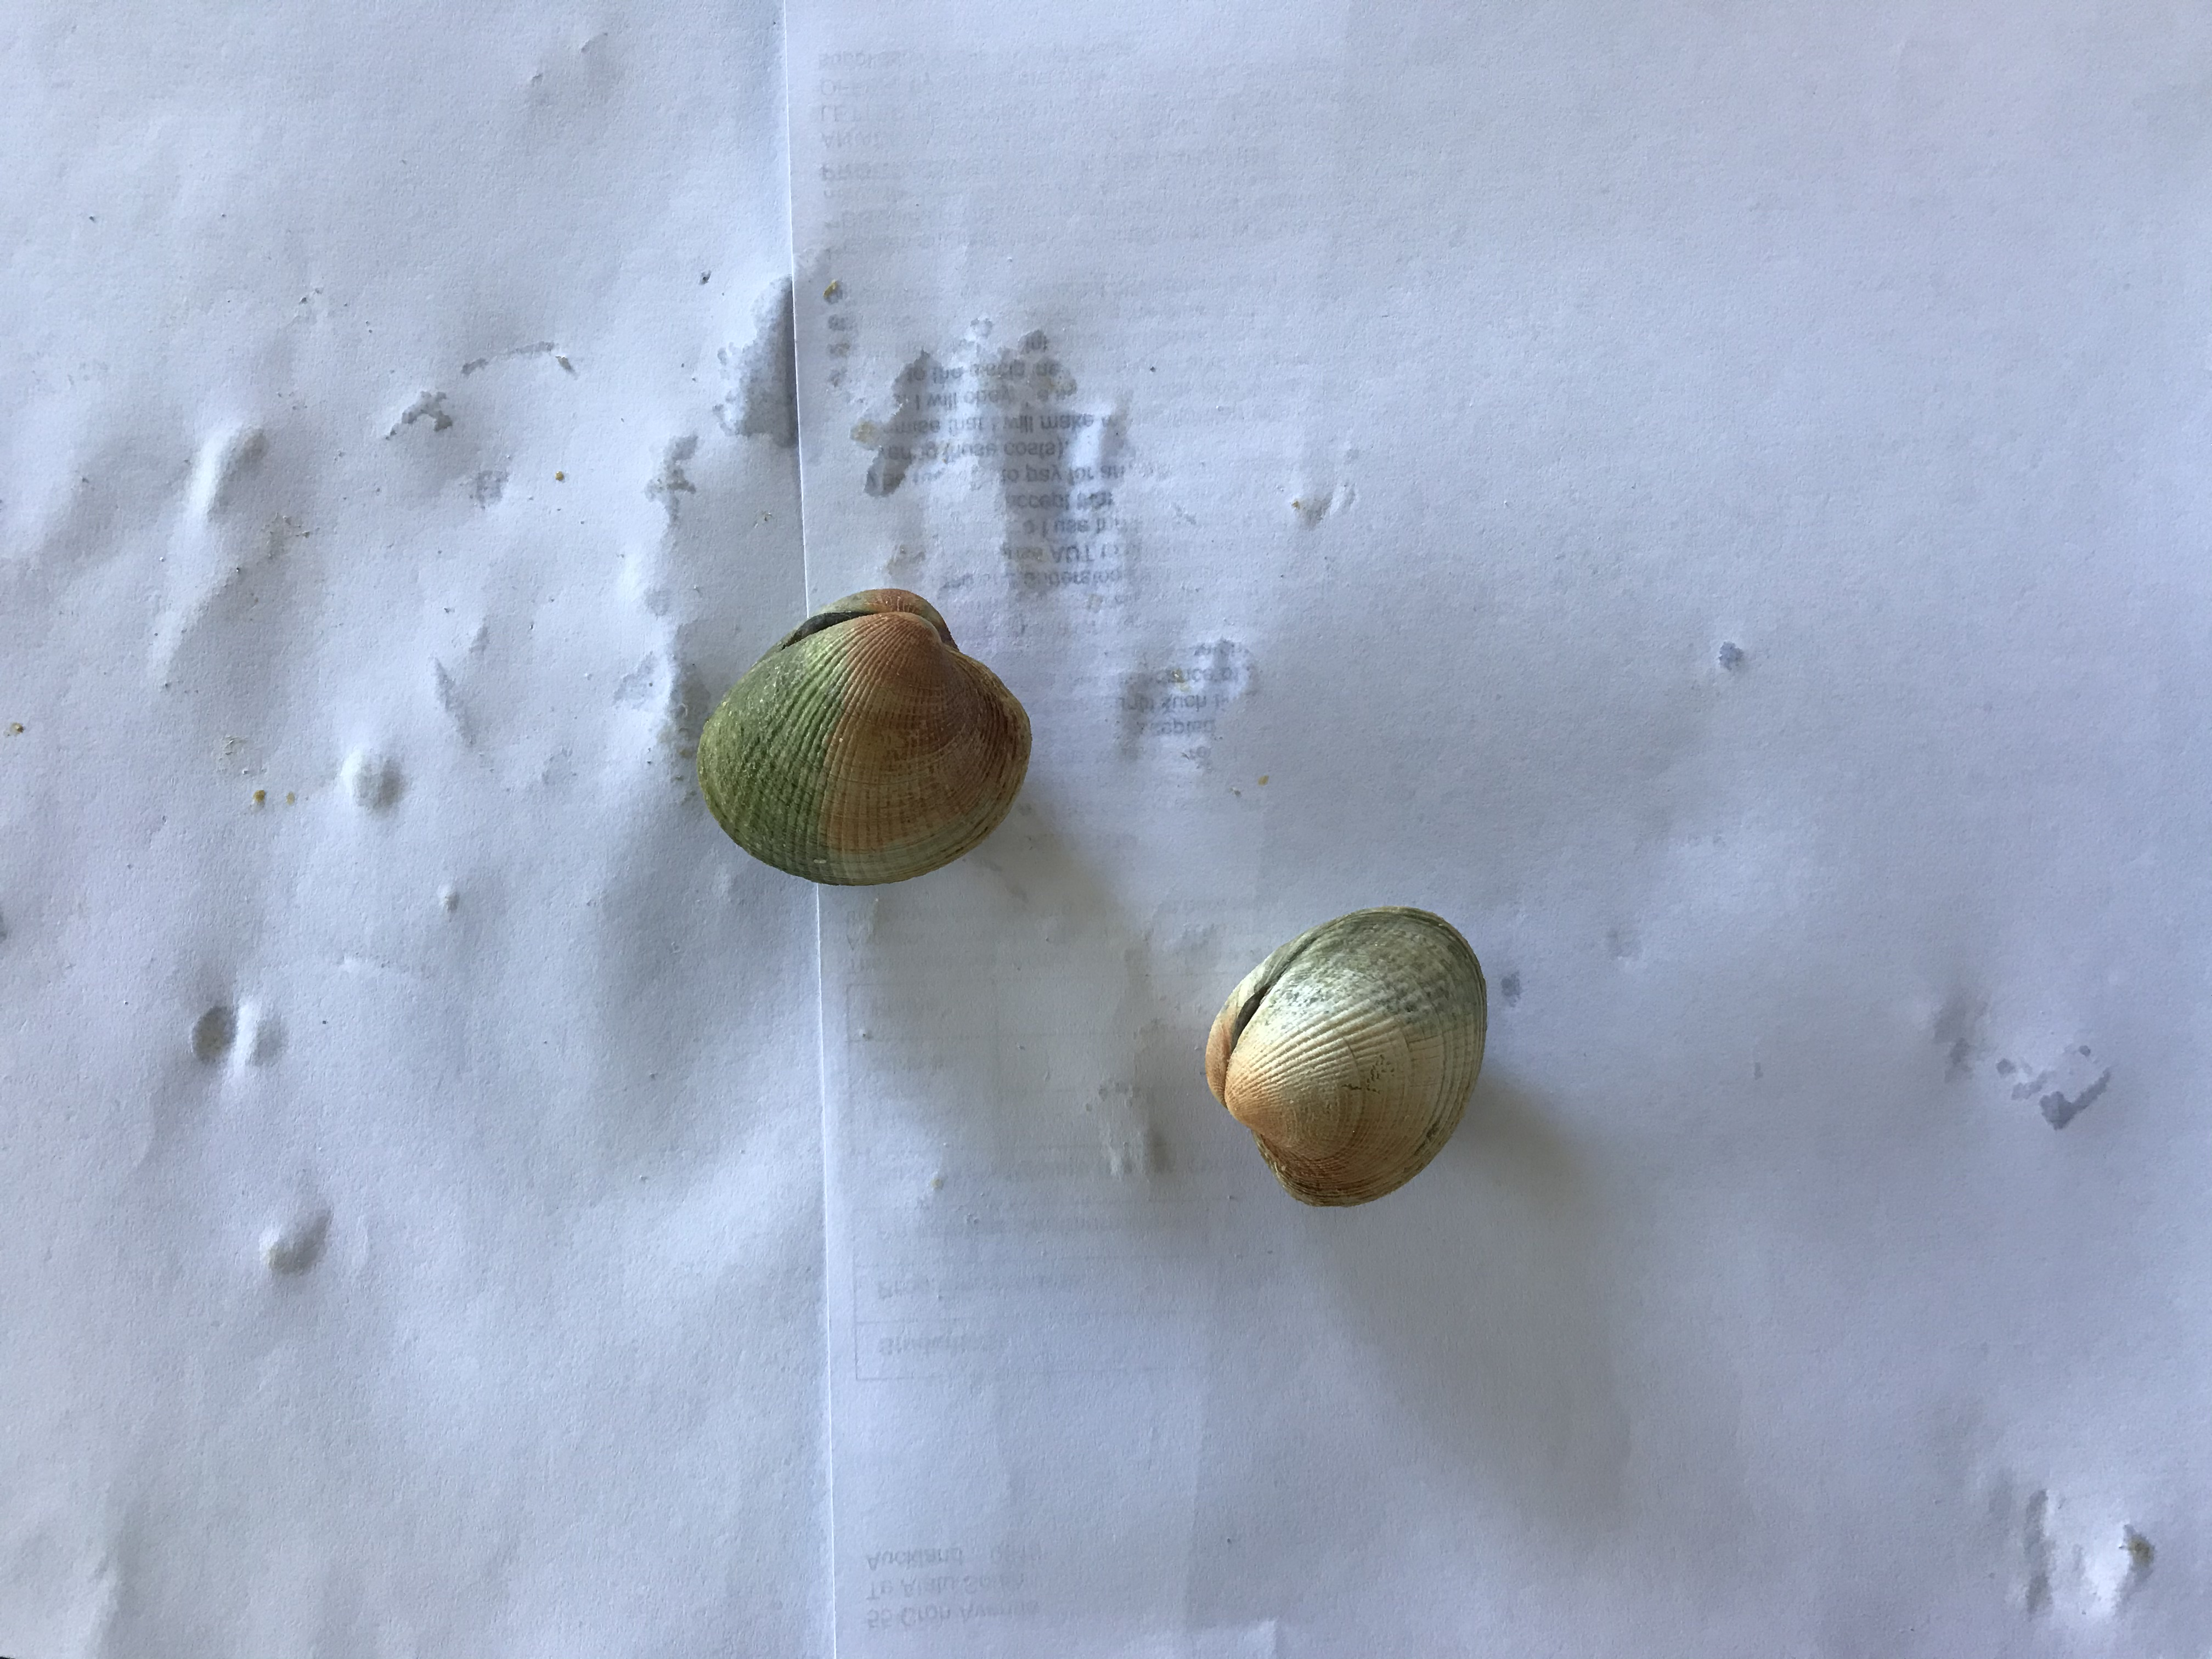cockle: (690, 584, 1042, 885), (1200, 899, 1487, 1213)
